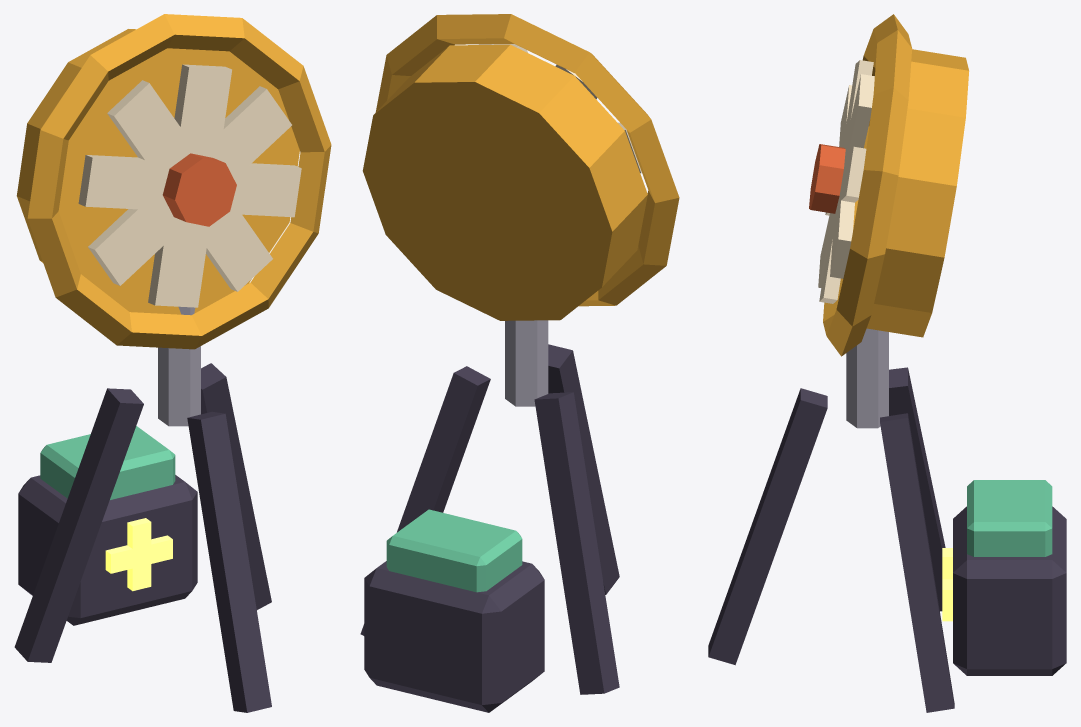
Rendered from MOONSHIFT_AIR_Fan_Portable.glb.
The picture shows the model from 3 angles, left to right: view 1: azimuth 30°, elevation 25°; view 2: azimuth 150°, elevation 25°; view 3: azimuth 270°, elevation 25°; orthographic projection.
Parts seen in each view (by area): view 1: FanP_Cage, FanP_Back, FanP_BatterySlot, FanP_Leg2, FanP_Leg1, FanP_Blade0, FanP_Blade1, FanP_Blade2, FanP_Blade3, FanP_BatteryCell, FanP_Hub, FanP_Leg0 (+3 smaller); view 2: FanP_Back, FanP_BatterySlot, FanP_Cage, FanP_Leg1, FanP_BatteryCell, FanP_Leg0, FanP_Leg2, FanP_Pole; view 3: FanP_Back, FanP_BatterySlot, FanP_Cage, FanP_Leg2, FanP_Leg0, FanP_BatteryCell, FanP_Pole, FanP_Leg1, FanP_Hub, FanP_Blade0, FanP_Blade2, FanP_Blade3 (+1 smaller).
Boxes of the visible parts, x1,y1,x2,y2 form: FanP_Cage: [27, 14, 331, 349]; FanP_Back: [16, 29, 299, 314]; FanP_BatterySlot: [18, 475, 197, 625]; FanP_Leg2: [187, 411, 271, 712]; FanP_Leg1: [14, 388, 143, 662]; FanP_Blade0: [148, 64, 231, 307]; FanP_Blade1: [88, 86, 291, 285]; FanP_Blade2: [78, 155, 301, 217]; FanP_Blade3: [107, 80, 272, 291]; FanP_BatteryCell: [40, 426, 175, 499]; FanP_Hub: [162, 153, 236, 226]; FanP_Leg0: [201, 363, 271, 609]; FanP_Back: [362, 44, 647, 320]; FanP_BatterySlot: [364, 561, 544, 712]; FanP_Cage: [375, 14, 679, 306]; FanP_Leg1: [534, 392, 619, 694]; FanP_BatteryCell: [386, 509, 522, 592]; FanP_Leg0: [360, 366, 490, 635]; FanP_Leg2: [548, 344, 619, 594]; FanP_Pole: [505, 320, 548, 406]; FanP_Back: [866, 49, 969, 337]; FanP_BatterySlot: [953, 506, 1066, 675]; FanP_Cage: [823, 14, 912, 356]; FanP_Leg2: [708, 388, 827, 665]; FanP_Leg0: [880, 413, 954, 712]; FanP_BatteryCell: [967, 480, 1052, 556]; FanP_Pole: [846, 328, 888, 428]; FanP_Leg1: [889, 367, 945, 611]; FanP_Hub: [809, 144, 845, 213]; FanP_Blade0: [818, 74, 874, 287]; FanP_Blade2: [830, 85, 854, 278]; FanP_Blade3: [819, 60, 873, 303].
Size of the model in its own units: 0.49 by 0.9795 by 0.5039.
